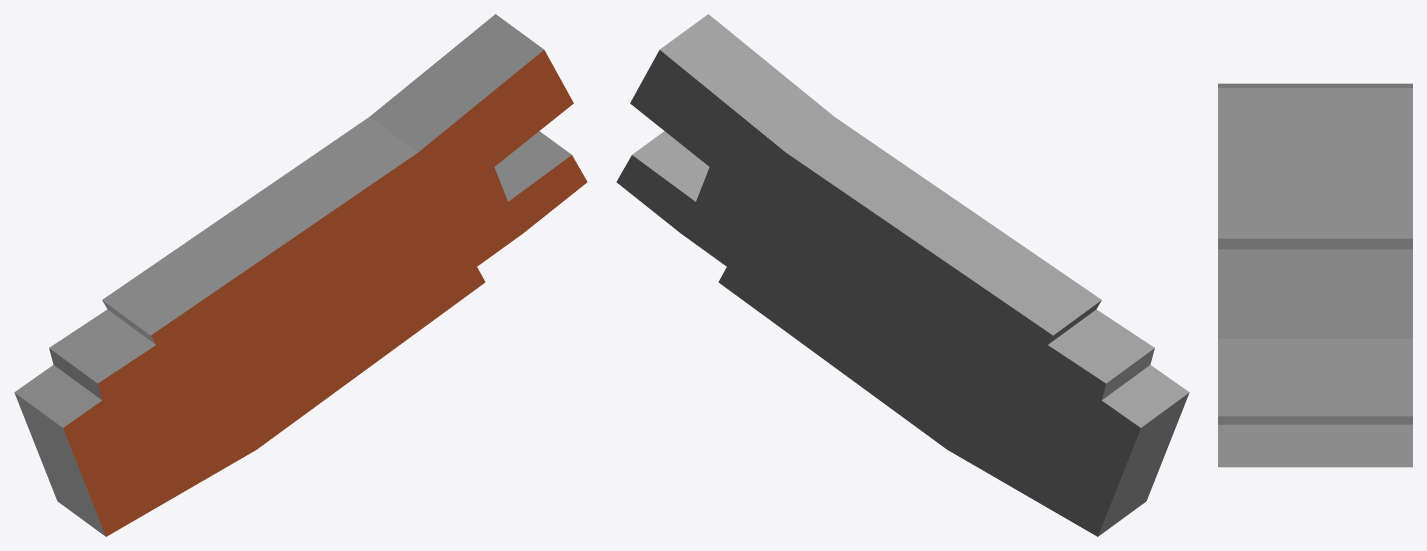
Rendered from construction_1863_assumed_A_Casa_h6m.obj.
3 renders of one model, left to right at view 1: azimuth 30°, elevation 25°; view 2: azimuth 150°, elevation 25°; view 3: azimuth 270°, elevation 25°, orthographic. The views are drawn at different scales.
Parts seen in each view (by area): view 1: construction_1863_assumed_A_Casa; view 2: construction_1863_assumed_A_Casa; view 3: construction_1863_assumed_A_Casa.
Part boxes in pixels (box(x1,y1,x2,y2)): construction_1863_assumed_A_Casa: box(14, 14, 587, 536); construction_1863_assumed_A_Casa: box(616, 14, 1189, 536); construction_1863_assumed_A_Casa: box(1218, 83, 1412, 467).
Size of the model in its own units: 37.28 by 25.83 by 6.
